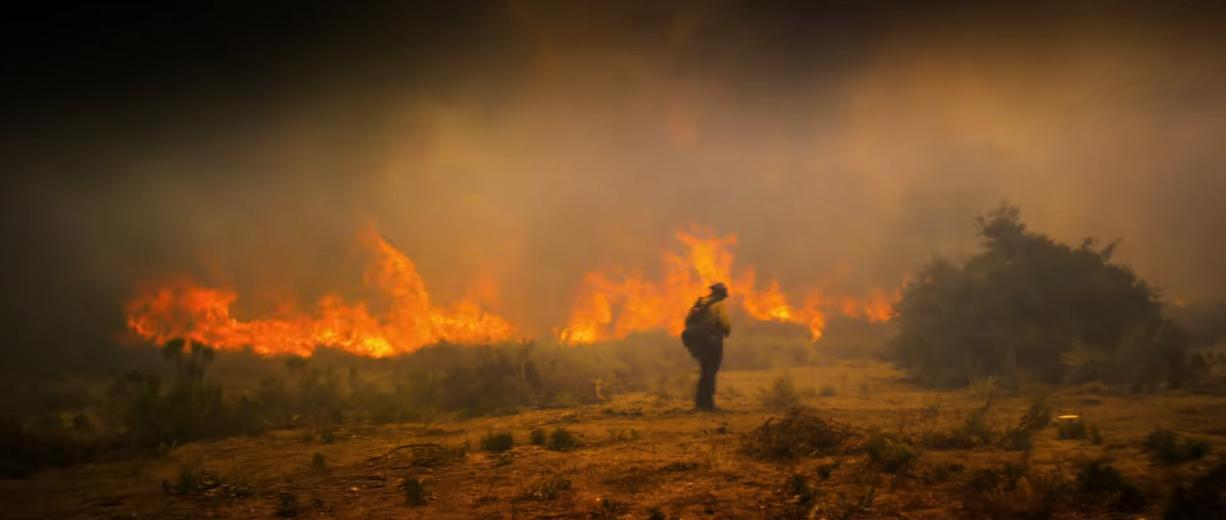Fire: (112, 223, 536, 375), (549, 211, 895, 360)
